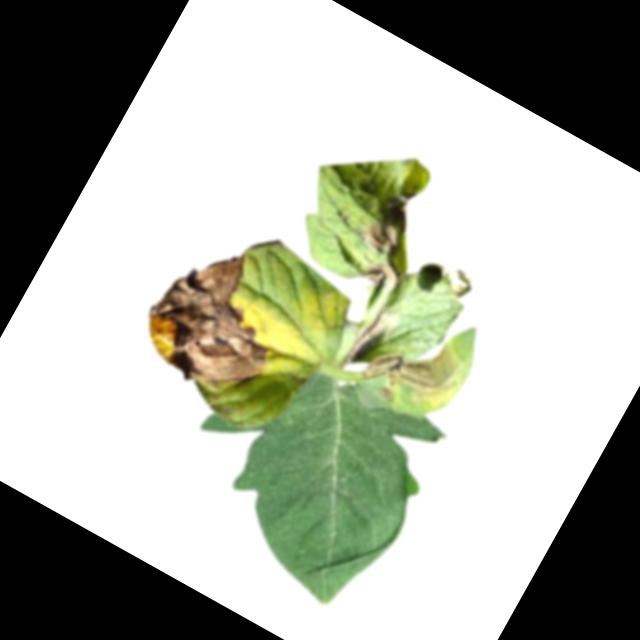Late_blight: (129, 228, 310, 412), (357, 314, 474, 422), (354, 176, 429, 265), (339, 301, 400, 378), (357, 252, 407, 297), (435, 258, 479, 299), (374, 383, 399, 406)
healthy: (153, 320, 458, 621)
